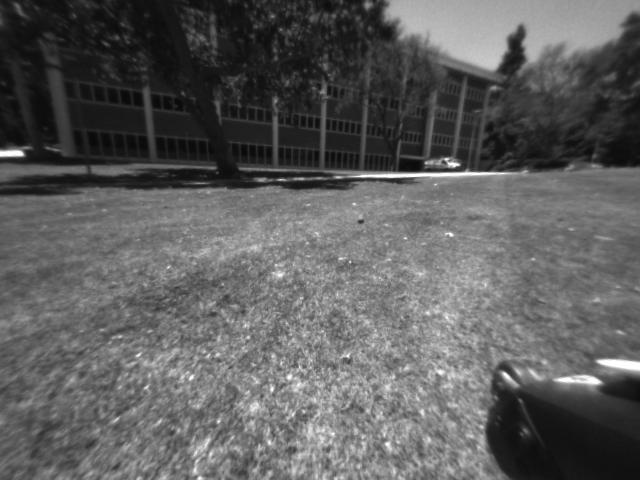dogtoy: (352, 210, 368, 229)
